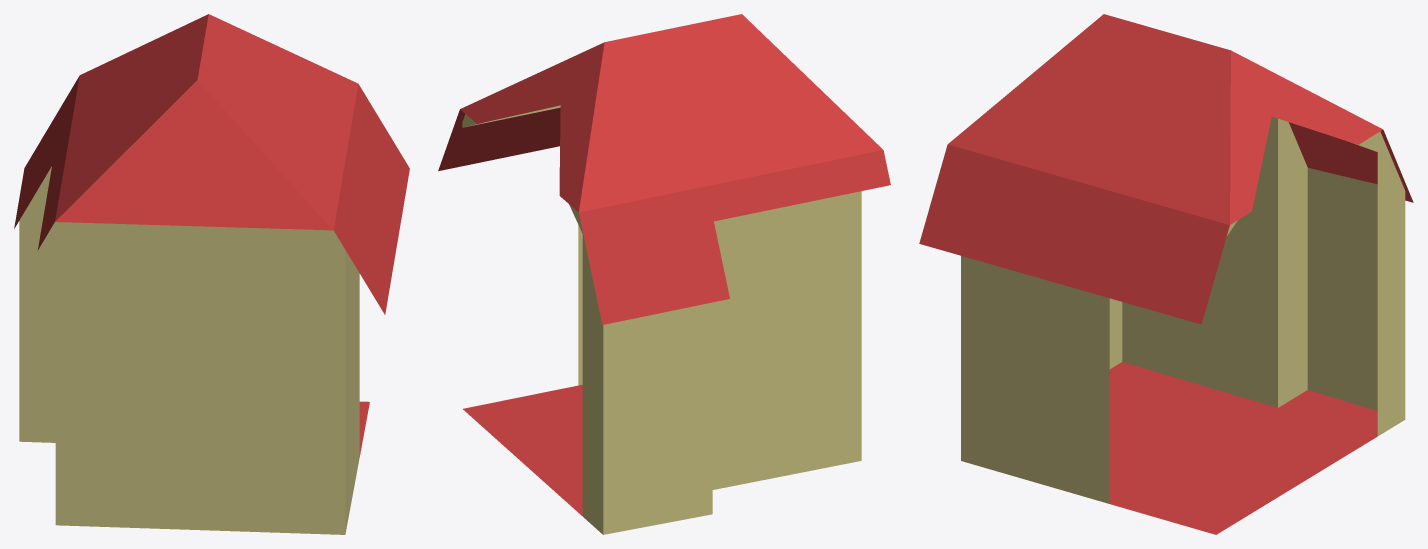
The picture shows the model from 3 angles, left to right: view 1: azimuth 30°, elevation 25°; view 2: azimuth 150°, elevation 25°; view 3: azimuth 270°, elevation 25°; orthographic projection. The views are drawn at different scales.
Size of the model in its own units: 13.08 by 13.66 by 12.53.
